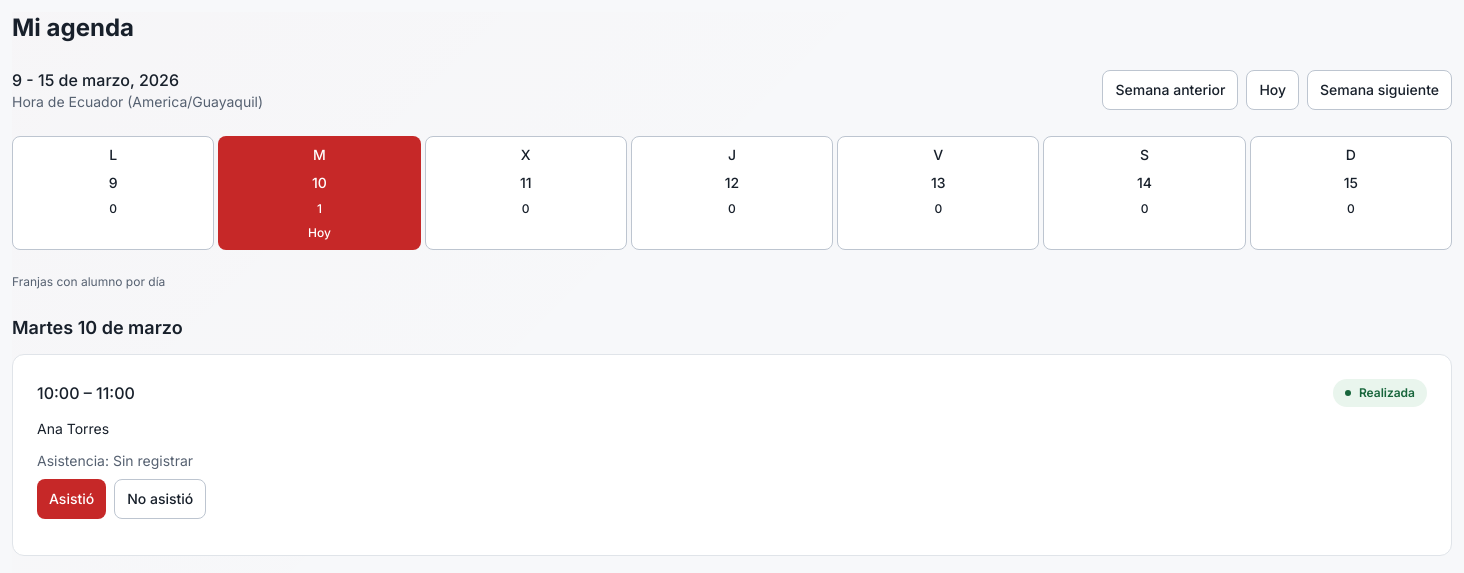
it: agenda diaria del instructor › registra attended=false sin confirmación y conserva el nombre del alumno
Expected: the text "Ana Torres" is shown, [37,420,109,437]
Click the button "No asistió".
click(160, 499)  # box [114,479,206,519]
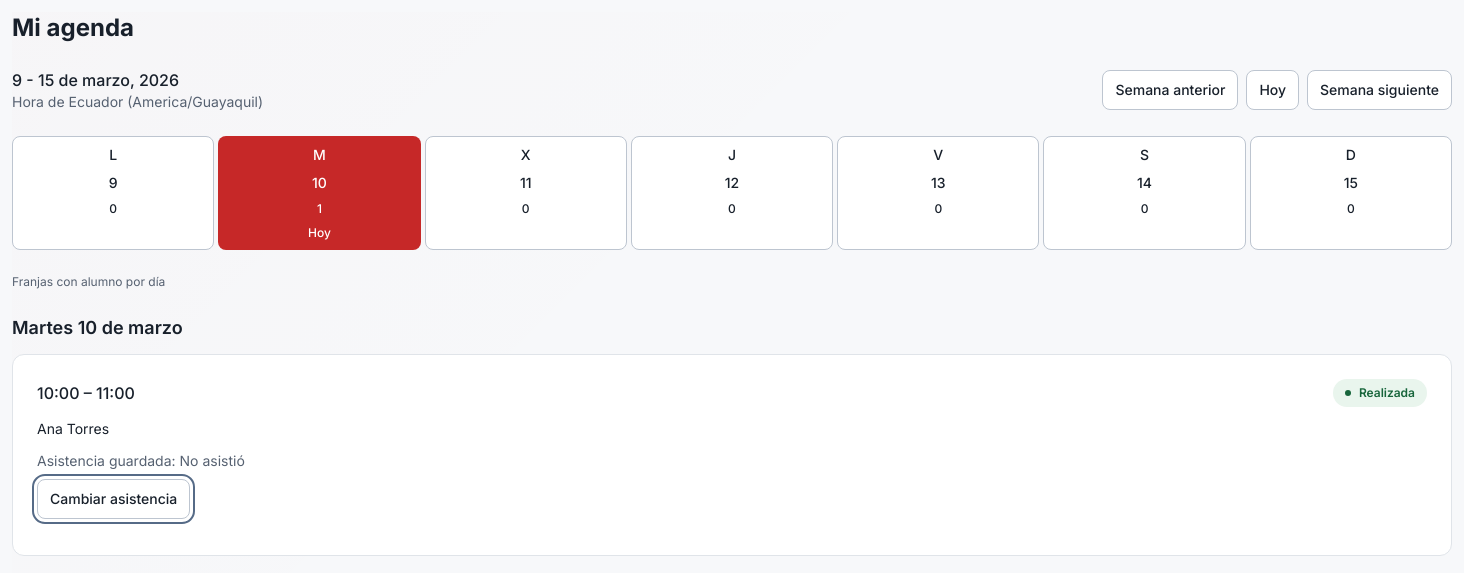
Expected: the text "Ana Torres" is shown, [37,420,109,437]
Expected: the text "Asistencia guardada: No asistió" is shown, [37,452,245,469]
